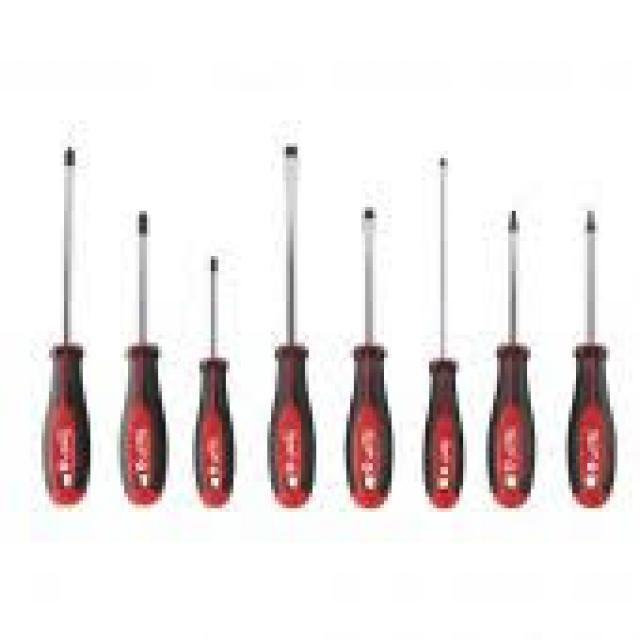screwdriver: (265, 135, 322, 512), (40, 141, 96, 510), (416, 150, 469, 516), (559, 190, 619, 510), (338, 201, 396, 514), (484, 205, 540, 518), (115, 207, 171, 512), (188, 252, 241, 512)
